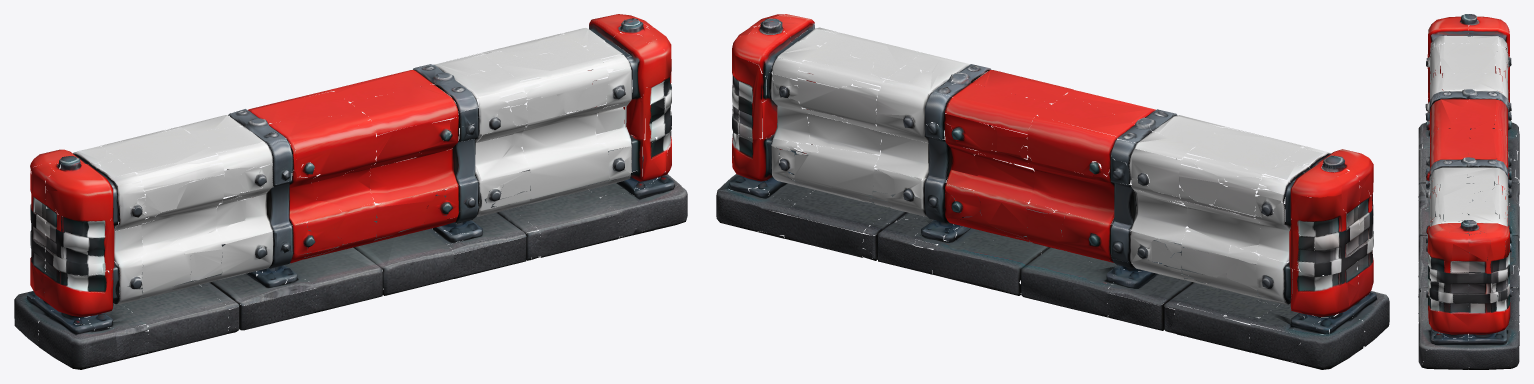
File: barreira_reta_vermelha_branca.glb
3 views of the same model, side by side, from view 1: azimuth 30°, elevation 25°; view 2: azimuth 150°, elevation 25°; view 3: azimuth 270°, elevation 25° (orthographic). The views are drawn at different scales.
Visible parts, largest first — view 1: Barreira_Reta_Vermelha_Branca; view 2: Barreira_Reta_Vermelha_Branca; view 3: Barreira_Reta_Vermelha_Branca.
Boxes of the visible parts, x1=… form: Barreira_Reta_Vermelha_Branca: x1=14, y1=14, x2=687, y2=369; Barreira_Reta_Vermelha_Branca: x1=716, y1=14, x2=1389, y2=369; Barreira_Reta_Vermelha_Branca: x1=1418, y1=14, x2=1519, y2=369.
Size of the model in its own units: 3.5 by 0.9829 by 0.6554.
1 material, 1 textured.
